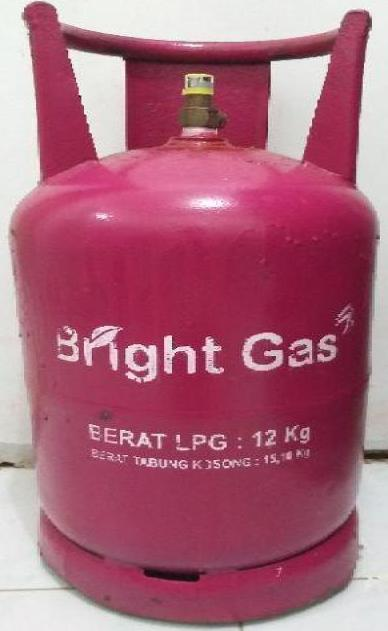cylinder: (1, 1, 388, 631)
